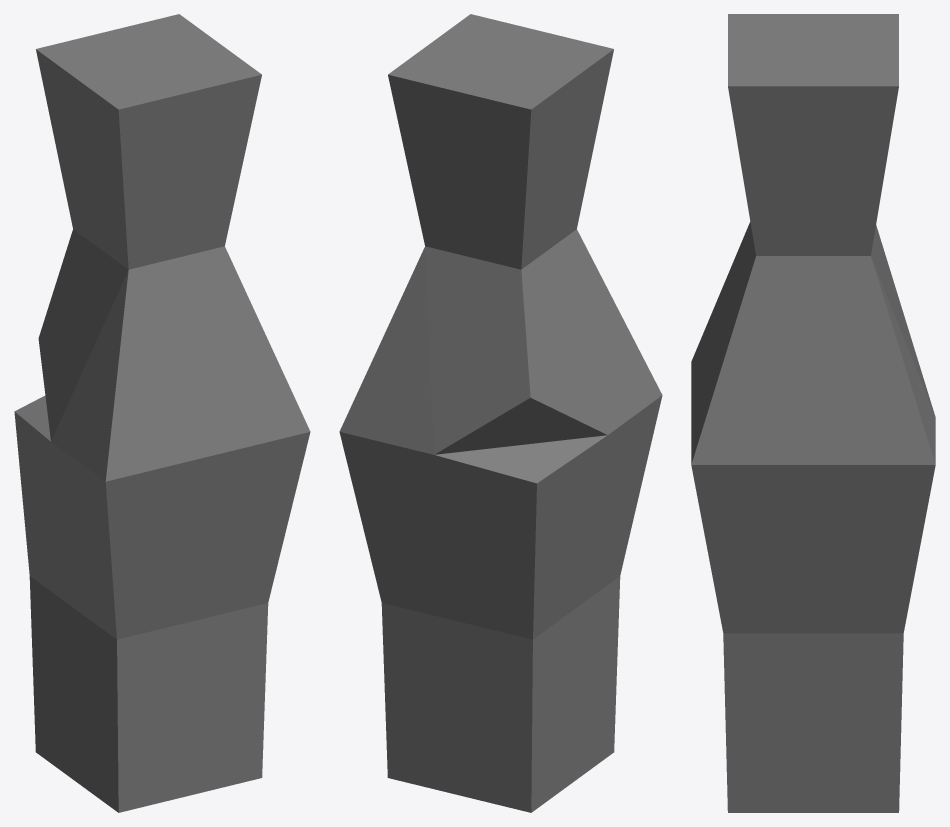
The model's file is stone_14.fbx.
3 views of the same model, side by side, from view 1: azimuth 30°, elevation 25°; view 2: azimuth 150°, elevation 25°; view 3: azimuth 270°, elevation 25° (orthographic). The views are drawn at different scales.
Parts seen in each view (by area): view 1: stone_14; view 2: stone_14; view 3: stone_14.
Part boxes in pixels (x1,y1,x2,y2): stone_14: (14,14,310,812); stone_14: (339,14,662,812); stone_14: (691,14,935,812).
Bounding box in the file's own units: 21.04 × 69.04 × 21.04.
